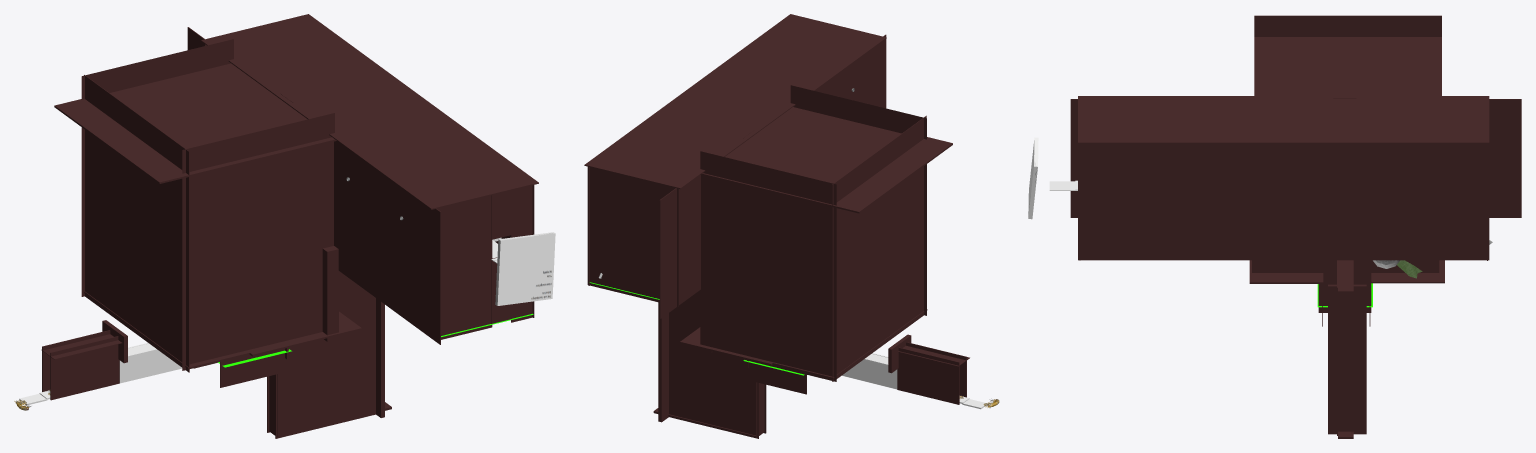
Rendered from everything.fbx.
The picture shows the model from 3 angles, left to right: view 1: azimuth 30°, elevation 25°; view 2: azimuth 150°, elevation 25°; view 3: azimuth 270°, elevation 25°; orthographic projection. The views are drawn at different scales.
Visible parts, largest first — view 1: Cube__88_, Cube__66_, Cube__86_, Cube__62_, Cube__89_, Cube__71_, Cube__60_, Cube__87_, Cube__36_, Cube__76_, Cube__69_, Cube__90_ (+9 smaller); view 2: Cube__87_, Cube__66_, Cube__86_, Cube__89_, Cube__65_, Cube__70_, Cube__63_, Cube__88_, Cube__77_, Cube__62_, Cube__68_, Cube__72_ (+6 smaller); view 3: Cube__64_, Cube__66_, Cube__89_, Cube__72_, Cube__86_, Cube__63_, Cube__90_, Cube__91_, Cube__62_, Cube__83_, Cube__84_, Cube__75_ (+1 smaller).
Boxes of the visible parts, <box> form: Cube__88_: <box>182,113,334,370</box>; Cube__66_: <box>201,14,538,209</box>; Cube__86_: <box>84,75,189,372</box>; Cube__62_: <box>334,141,440,344</box>; Cube__89_: <box>54,63,336,183</box>; Cube__71_: <box>275,271,375,438</box>; Cube__60_: <box>437,195,492,339</box>; Cube__87_: <box>81,39,233,296</box>; Cube__36_: <box>495,232,555,305</box>; Cube__76_: <box>50,336,119,400</box>; Cube__69_: <box>220,348,289,387</box>; Cube__90_: <box>322,246,338,341</box>; Cube__87_: <box>700,151,836,381</box>; Cube__66_: <box>584,14,886,188</box>; Cube__86_: <box>832,115,926,381</box>; Cube__89_: <box>700,107,952,213</box>; Cube__65_: <box>587,166,678,306</box>; Cube__70_: <box>669,290,758,438</box>; Cube__63_: <box>659,175,700,318</box>; Cube__88_: <box>790,85,926,315</box>; Cube__77_: <box>897,347,959,404</box>; Cube__62_: <box>815,34,886,108</box>; Cube__68_: <box>745,359,806,394</box>; Cube__72_: <box>658,302,668,422</box>; Cube__64_: <box>1078,143,1489,260</box>; Cube__66_: <box>1078,96,1489,143</box>; Cube__89_: <box>1254,37,1441,95</box>; Cube__72_: <box>1328,284,1366,434</box>; Cube__86_: <box>1254,15,1441,36</box>; Cube__63_: <box>1489,99,1521,217</box>; Cube__90_: <box>1252,260,1336,278</box>; Cube__91_: <box>1353,260,1439,278</box>; Cube__62_: <box>1070,99,1077,217</box>; Cube__83_: <box>1249,260,1323,283</box>; Cube__84_: <box>1371,260,1444,283</box>; Cube__75_: <box>1338,260,1353,293</box>.
Size of the model in its own units: 9420 by 8470 by 11996.
